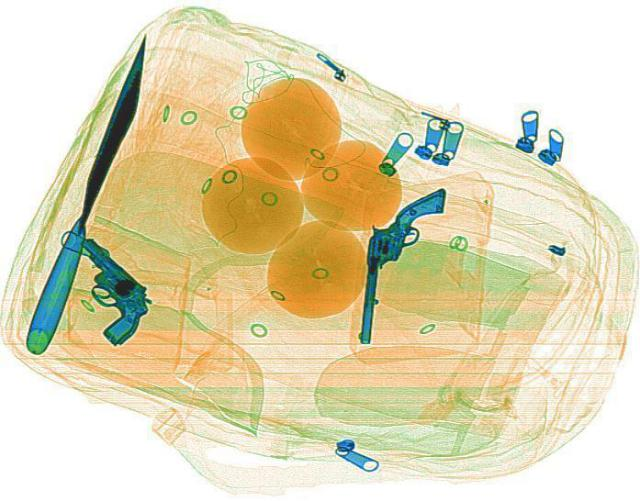Gun: (26, 235, 178, 346), (354, 182, 446, 347)
Knife: (17, 31, 164, 354)
